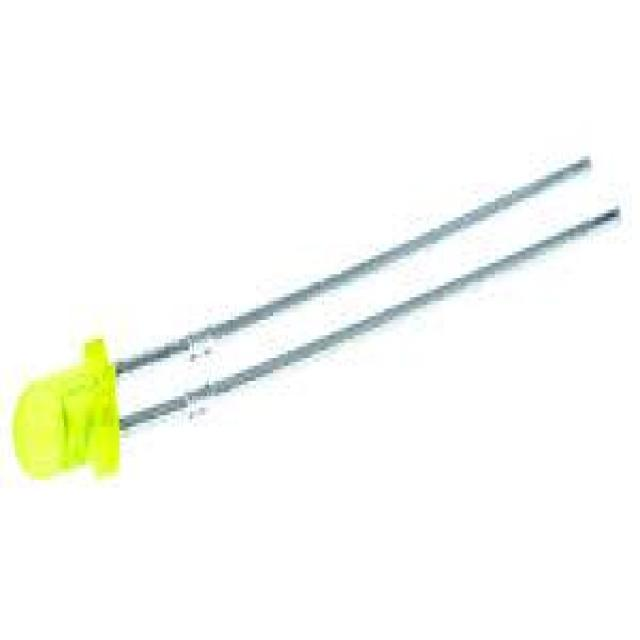Led: (12, 162, 619, 477)
